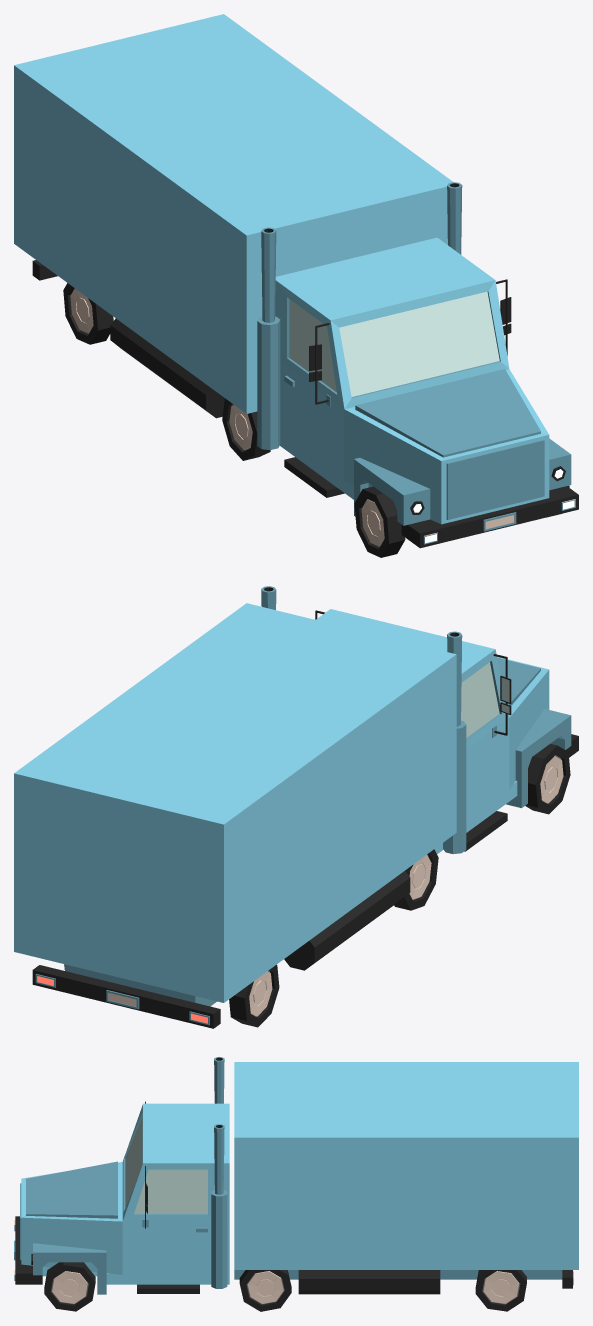
The model's file is Truck_1.fbx.
The picture shows the model from 3 angles, top to bottom: view 1: azimuth 30°, elevation 25°; view 2: azimuth 150°, elevation 25°; view 3: azimuth 270°, elevation 25°; orthographic projection. The views are drawn at different scales.
Visible parts, largest first — view 1: truck; view 2: truck; view 3: truck.
Boxes of the visible parts, x1,y1,x2,y2 form: truck: (14, 14, 578, 557); truck: (14, 586, 578, 1028); truck: (14, 1057, 578, 1311).
Size of the model in its own units: 226 by 258 by 710.
